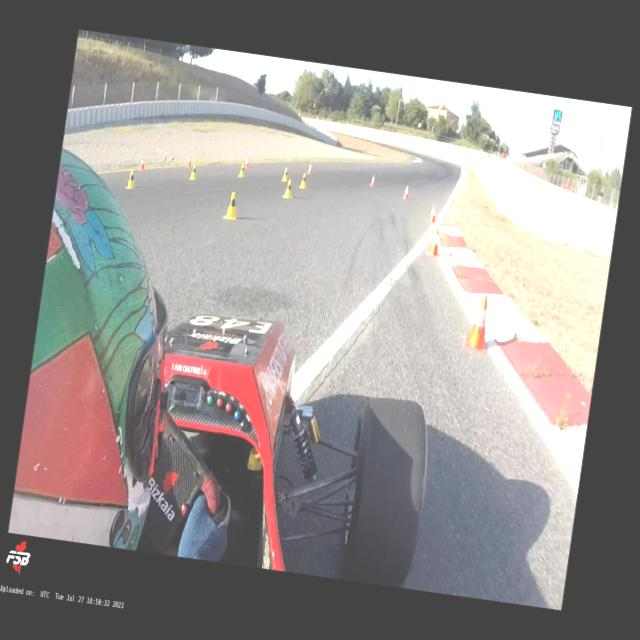orange_cone: (464, 294, 494, 354), (427, 227, 442, 257), (428, 204, 438, 224), (403, 185, 410, 200), (369, 174, 376, 187), (186, 155, 192, 168), (140, 157, 146, 170), (307, 163, 313, 175), (243, 158, 250, 168)
yellow_cone: (223, 191, 239, 220), (283, 179, 294, 199), (126, 169, 136, 190), (298, 172, 308, 190), (188, 164, 198, 181), (282, 167, 290, 182), (238, 162, 245, 178)
